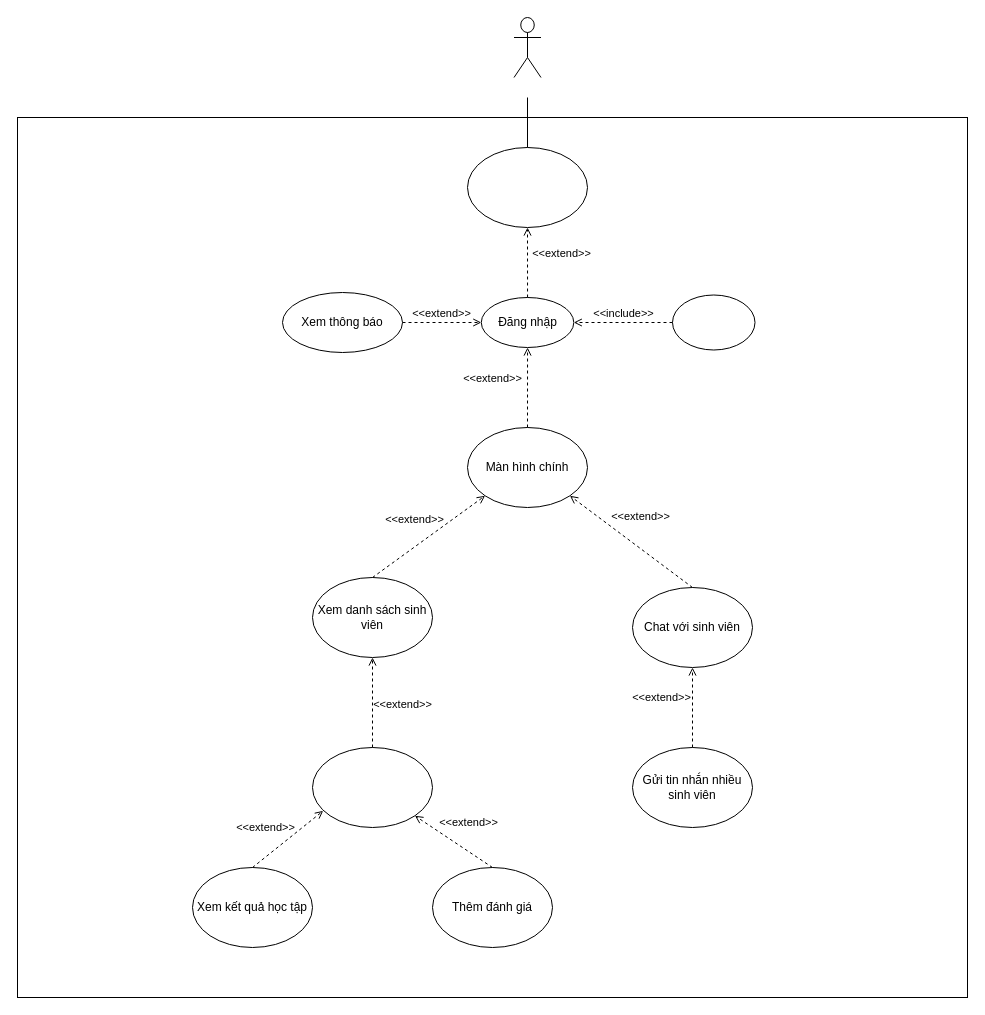
Image size: 985x1015. Some labels were removed from this diagram. Each missing label, with the box of its shape:
Mentor: (513, 16, 541, 78)
Màn hình Login: (466, 146, 588, 228)
Xem thông tin sinh viên: (312, 746, 432, 828)
Đăng xuất: (672, 294, 755, 350)
